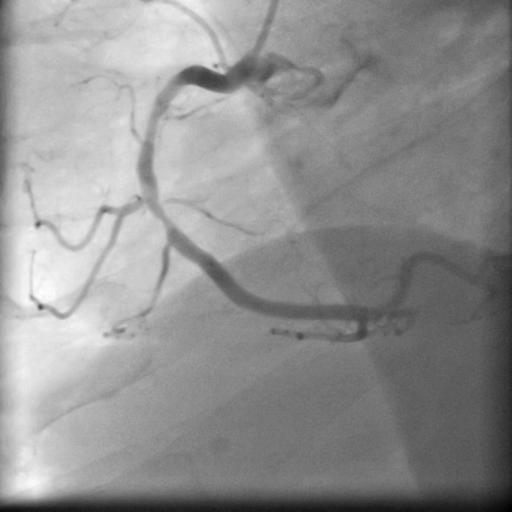Stenosis: (146, 192, 181, 239)
